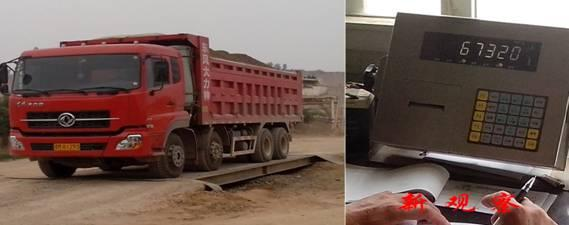chaozhai: (8, 30, 306, 181)
